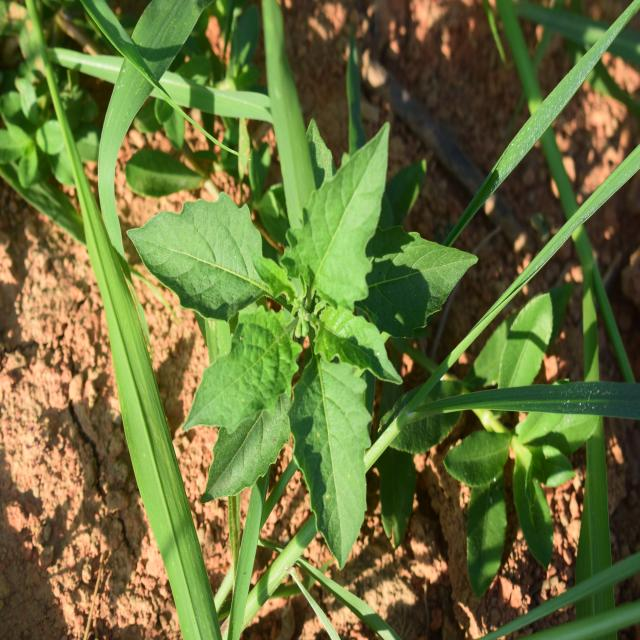Black_nightshade: (146, 169, 438, 547)
